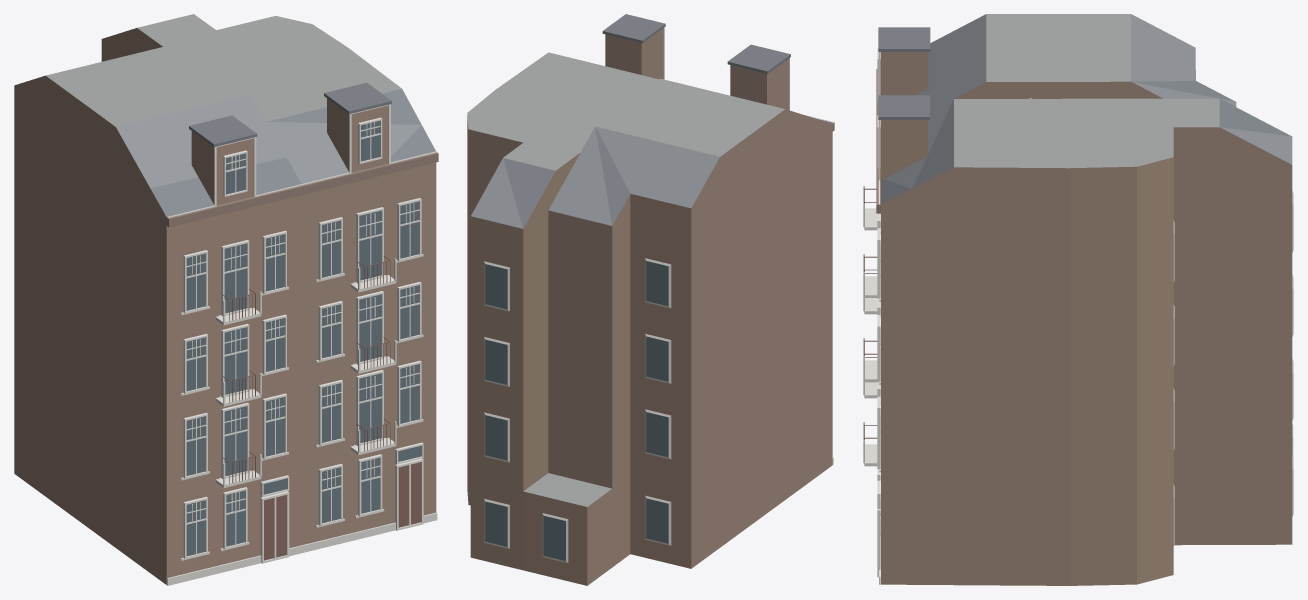
Rendered from chunk-face-helmers-23-57-r3.glb.
3 renders of one model, left to right at view 1: azimuth 30°, elevation 25°; view 2: azimuth 150°, elevation 25°; view 3: azimuth 270°, elevation 25°, orthographic. The views are drawn at different scales.
Visible parts, largest first — view 1: face-helmers-23-57-r3; view 2: face-helmers-23-57-r3; view 3: face-helmers-23-57-r3.
Boxes of the visible parts, left/top/right/bottom form: face-helmers-23-57-r3: left=14, top=14, right=438, bottom=585; face-helmers-23-57-r3: left=467, top=14, right=834, bottom=585; face-helmers-23-57-r3: left=863, top=14, right=1293, bottom=585.
Bounding box in the file's own units: 11.88 × 17.94 × 15.73.
